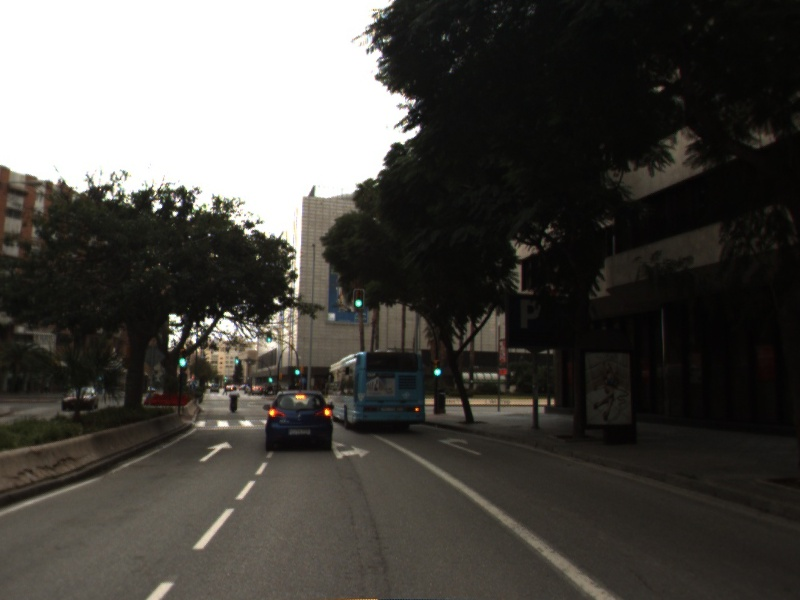RIGHT: (436, 435, 485, 458)
STRAIGHT: (197, 439, 235, 464)
STRAIGHT_RIGHT: (329, 439, 372, 461)
